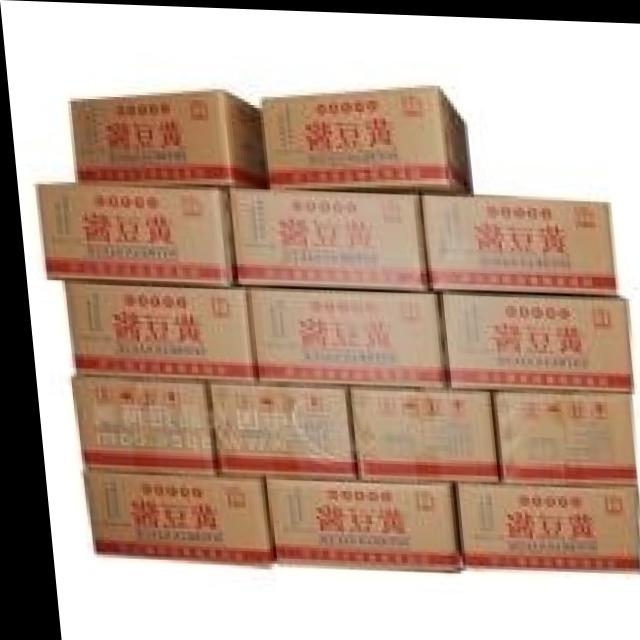box: (258, 83, 470, 193), (31, 181, 232, 286), (224, 187, 424, 291), (239, 287, 438, 387), (416, 190, 613, 291), (67, 88, 263, 185), (437, 290, 626, 390), (72, 470, 268, 566), (59, 282, 248, 381), (254, 476, 450, 568), (442, 476, 629, 569), (64, 375, 209, 476), (198, 379, 345, 478), (343, 387, 490, 478), (486, 388, 627, 481)
